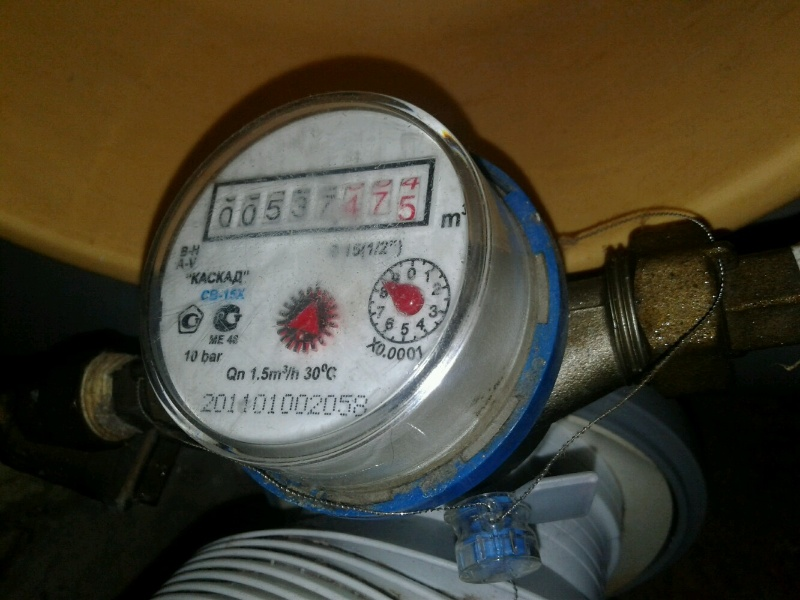meter: (208, 191, 428, 231)
